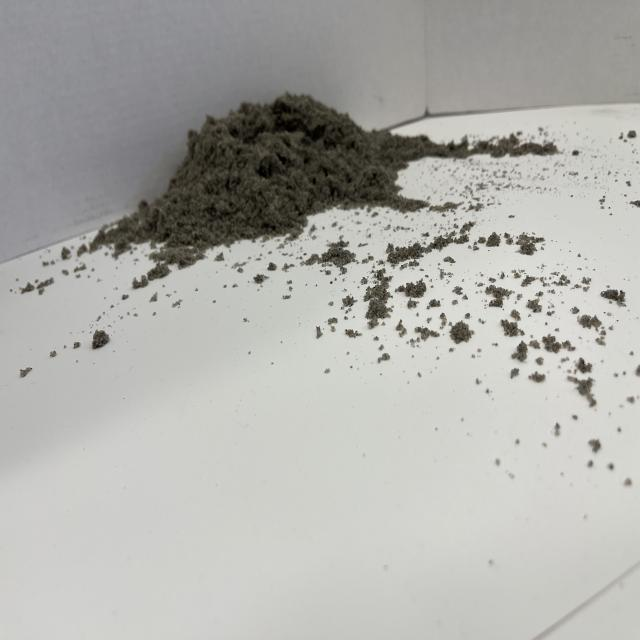sand: (102, 72, 451, 261)
